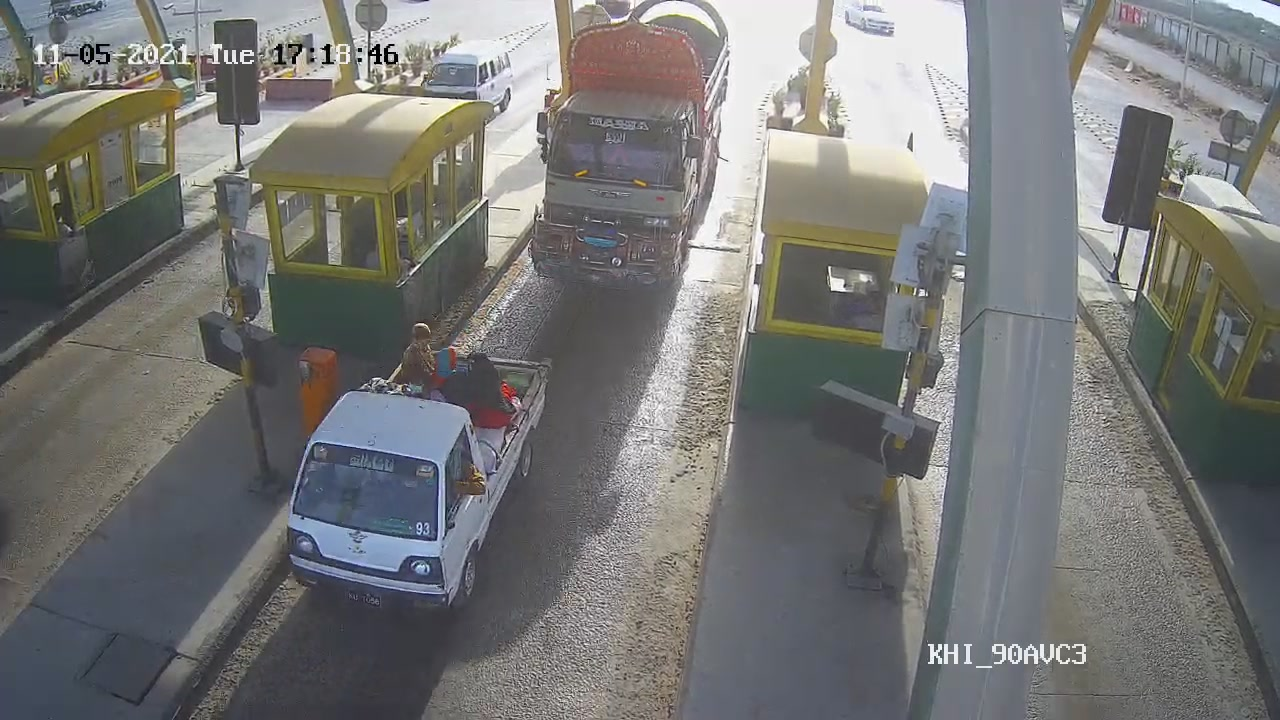F5: (527, 1, 739, 281)
